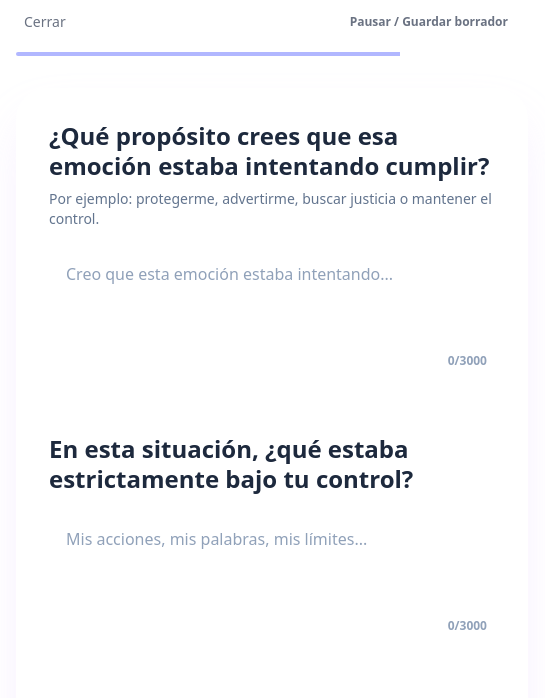
Scenario: New feature regression - version 2026-05-19 › RG-05 resumes an in-progress draft and continues with the original sessionId
Type "Estaba intentando proteger mis limites." into the text box with placeholder "Creo que esta emoción estaba intentando...". click: (272,295)
box: left=49, top=245, right=495, bottom=345
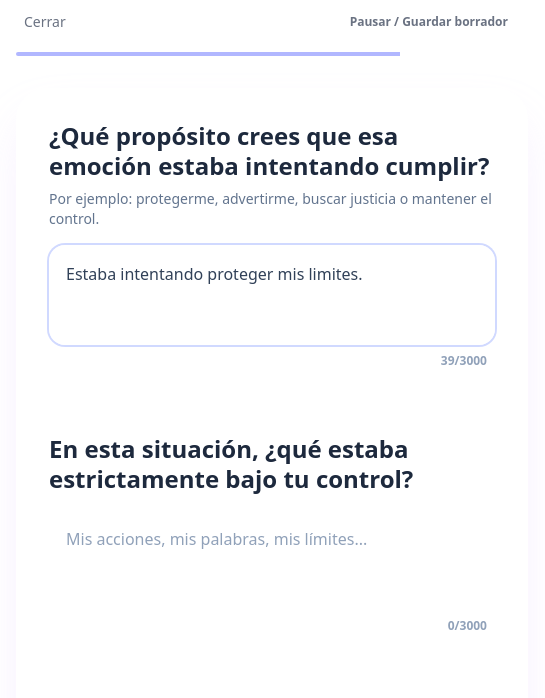
Type "Puedo pausar antes de responder." into the text box with placeholder "Mis acciones, mis palabras, mis límites...". click: (272,560)
box: left=49, top=510, right=495, bottom=610
(page scrolled)
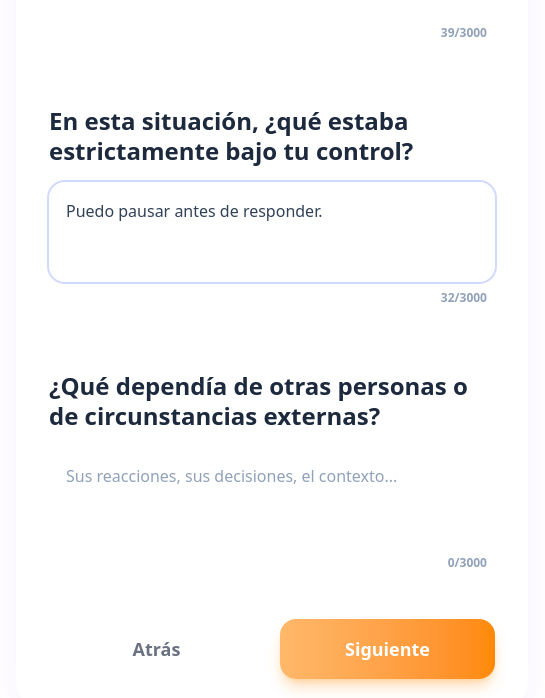
Type "Sus reacciones no dependen de mi." into the text box with placeholder "Sus reacciones, sus decisiones, el contexto...". click: (272,497)
box: left=49, top=447, right=495, bottom=547
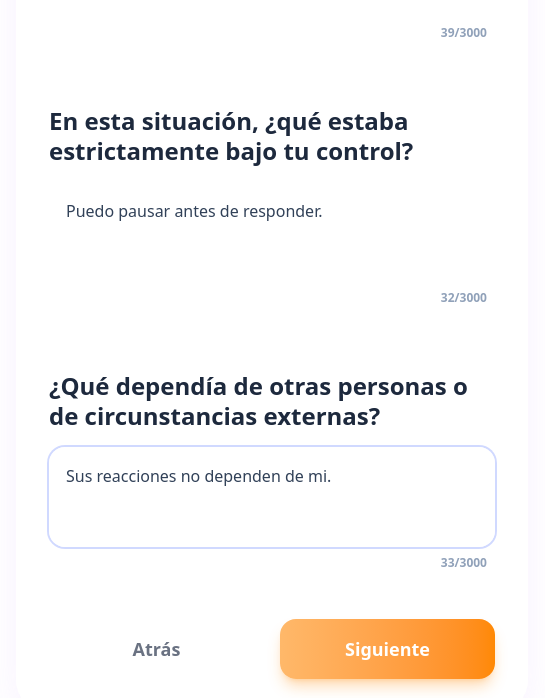
Click the button "Siguiente". click: (388,649)
box: left=280, top=619, right=495, bottom=679
(page scrolled)
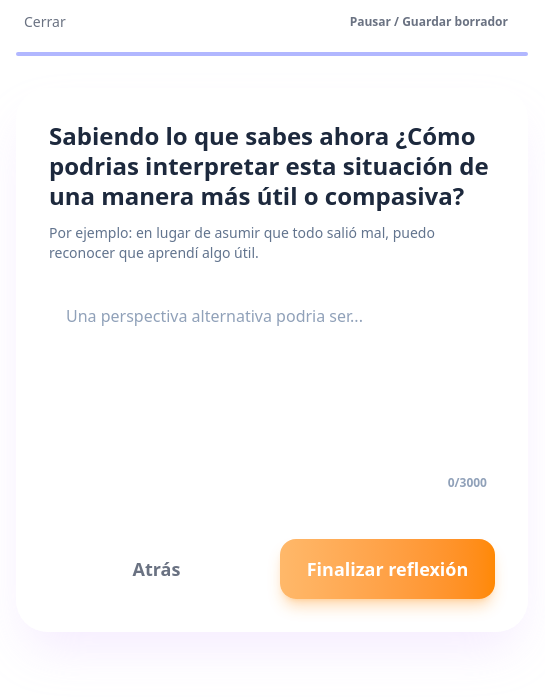
Check: the text box with placeholder "Una perspectiva alternativa podria ser..." is shown, box left=49, top=287, right=495, bottom=467
